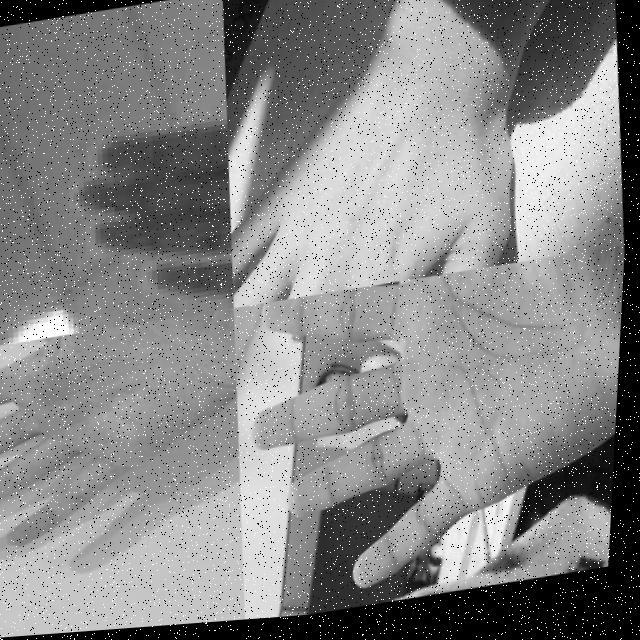no-gloves: (236, 255, 628, 610), (212, 0, 533, 313), (0, 310, 254, 552), (51, 31, 248, 336)
